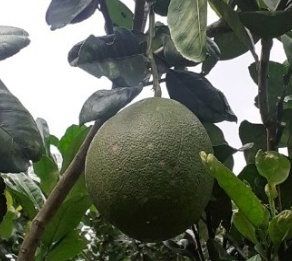Buoi: (82, 95, 218, 241)
